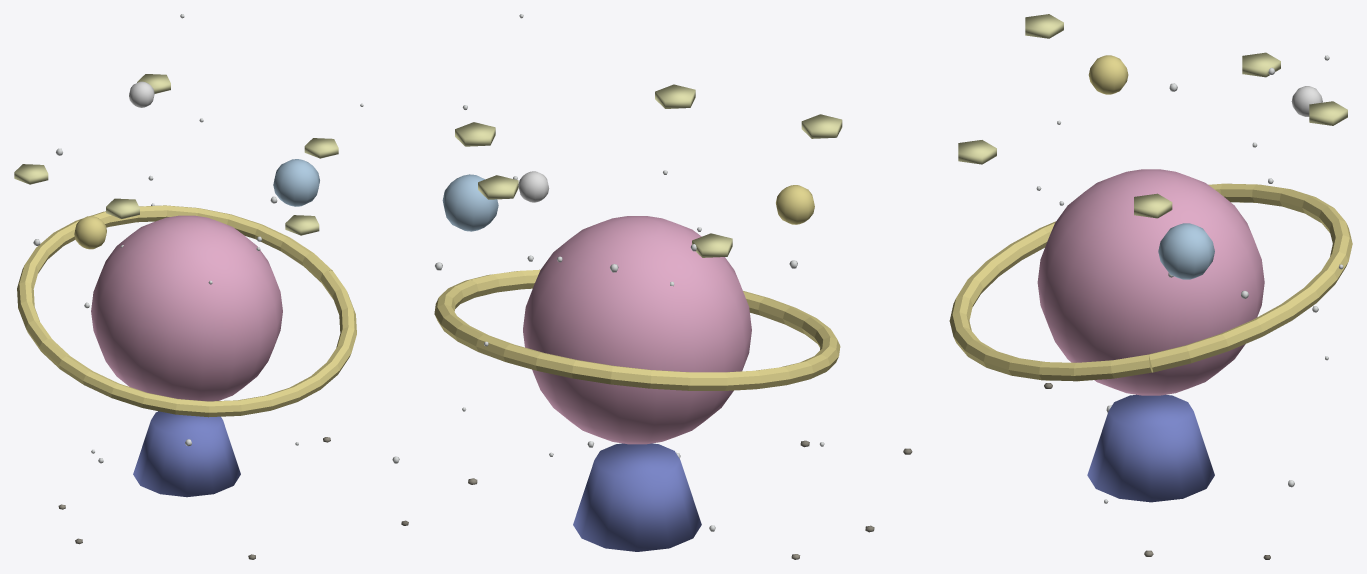
File: gym_deco_cosmos_lite.glb
3 renders of one model, left to right at view 1: azimuth 30°, elevation 25°; view 2: azimuth 150°, elevation 25°; view 3: azimuth 270°, elevation 25°, orthographic. The views are drawn at different scales.
Visible parts, largest first — view 1: Sphere; view 2: Sphere; view 3: Sphere.
Boxes of the visible parts, box(x1,y1,x2,y2) form: Sphere: box(14, 14, 363, 559); Sphere: box(392, 14, 874, 559); Sphere: box(903, 14, 1352, 559).
Size of the model in its own units: 5.86 by 7.18 by 6.33.
